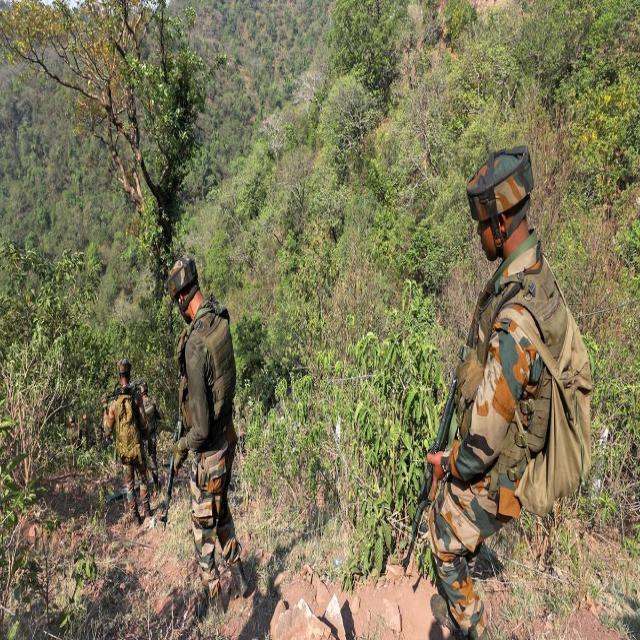Militant: (417, 124, 586, 640), (171, 244, 256, 605), (94, 344, 168, 540)
